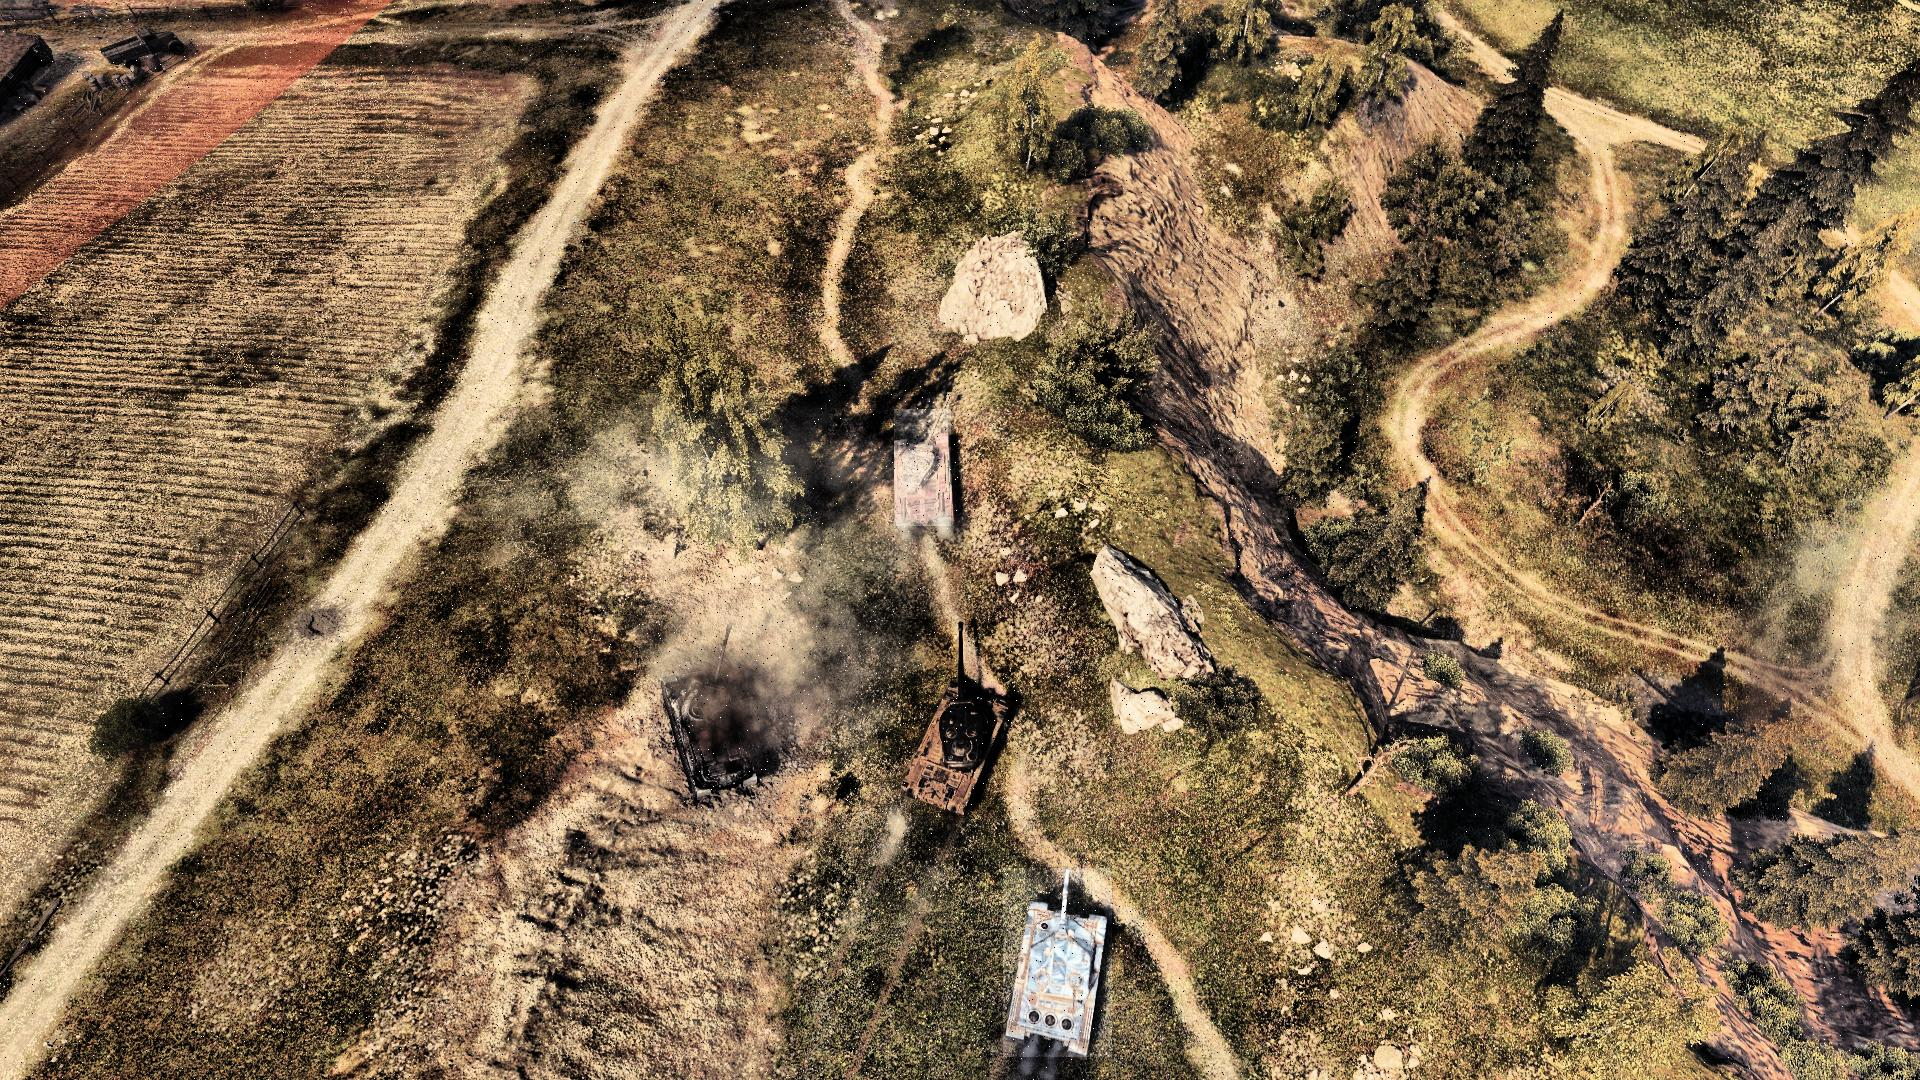military-vehicle: (902, 620, 1017, 816), (1004, 868, 1112, 1056), (895, 410, 952, 526)
